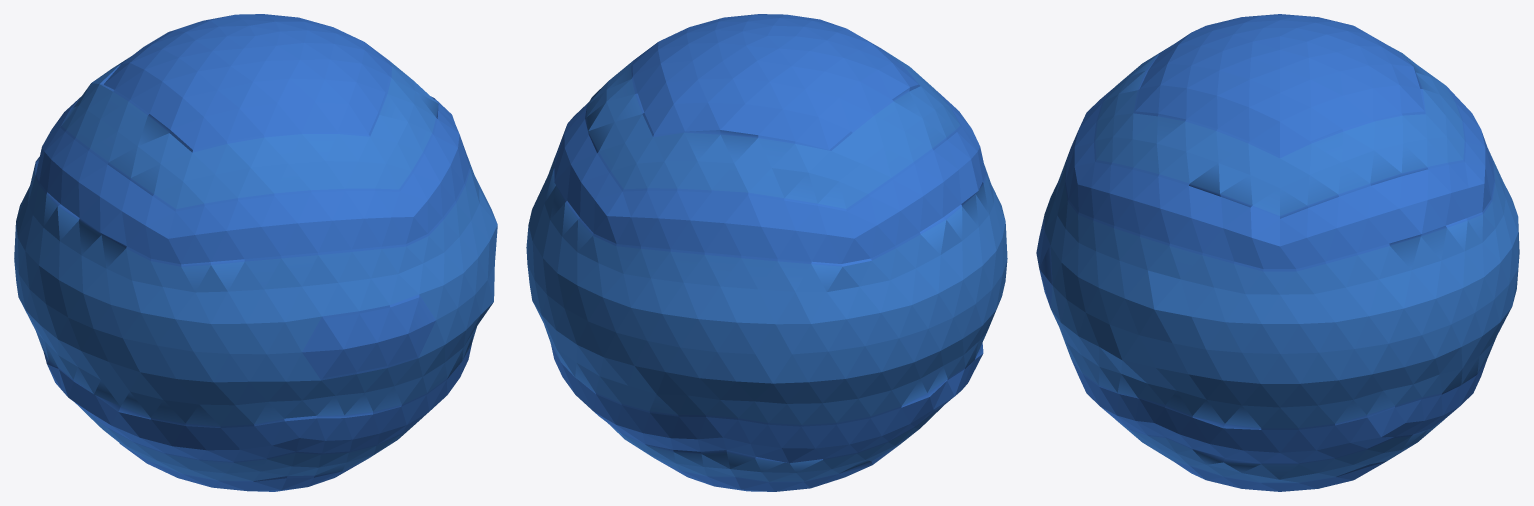
File: NeptuneLowPoly.fbx
3 views of the same model, side by side, from view 1: azimuth 30°, elevation 25°; view 2: azimuth 150°, elevation 25°; view 3: azimuth 270°, elevation 25° (orthographic).
Visible parts, largest first — view 1: Icosphere; view 2: Icosphere; view 3: Icosphere.
Boxes of the visible parts, box(x1,y1,x2,y2) form: Icosphere: box(14, 14, 497, 491); Icosphere: box(526, 14, 1007, 491); Icosphere: box(1036, 14, 1519, 491).
Size of the model in its own units: 1009 by 1010 by 1016.
